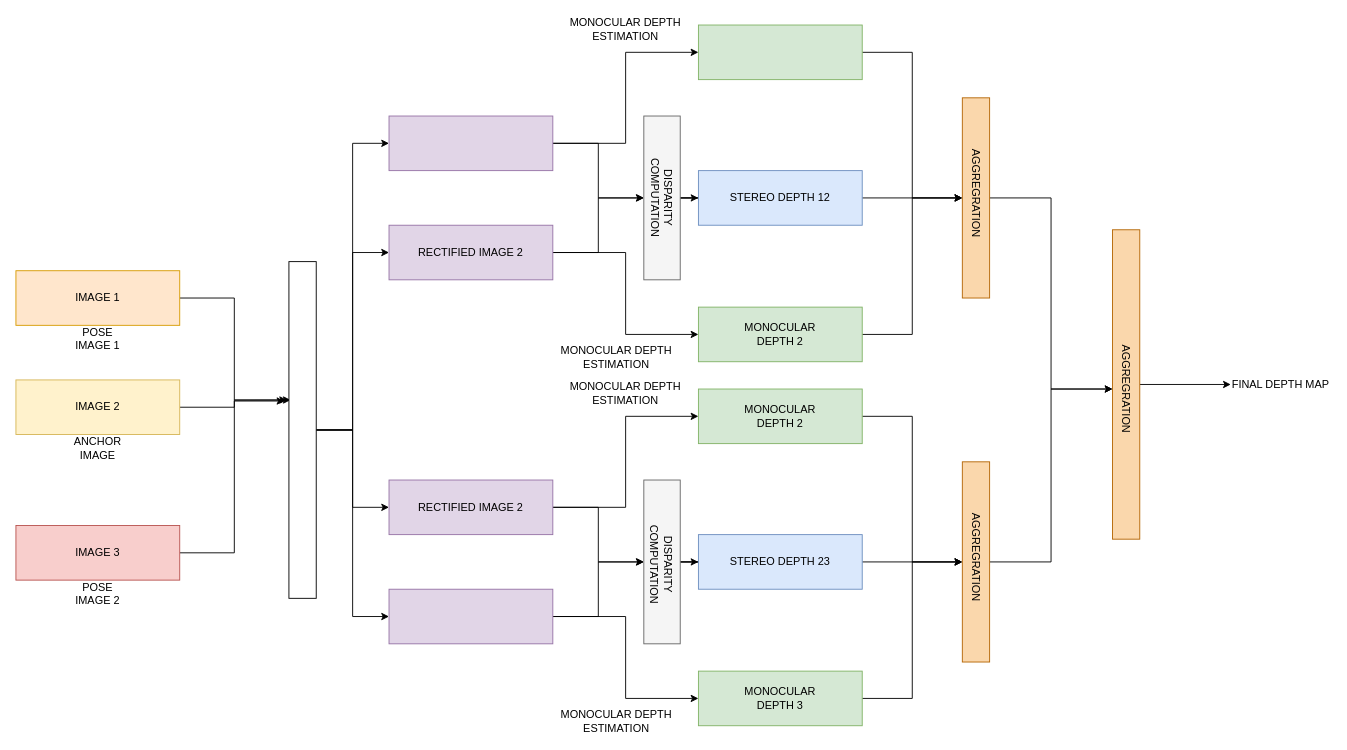
Some shapes in this 1347 by 750 pixel diagram are drawn without their labels. The shapes that lost their labels are listed below. From the top down, each one's centre as x and y in pixels, then its label:
At [780,52]: "MONOCULAR DEPTH 1".
At [470,143]: "RECTIFIED IMAGE 1".
At [302,429]: "RECTIFICATION".
At [470,616]: "RECTIFIED IMAGE 3".
